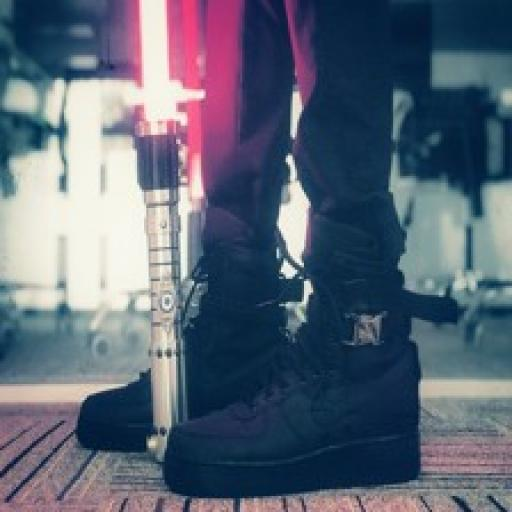sith saber: (132, 0, 186, 461)
